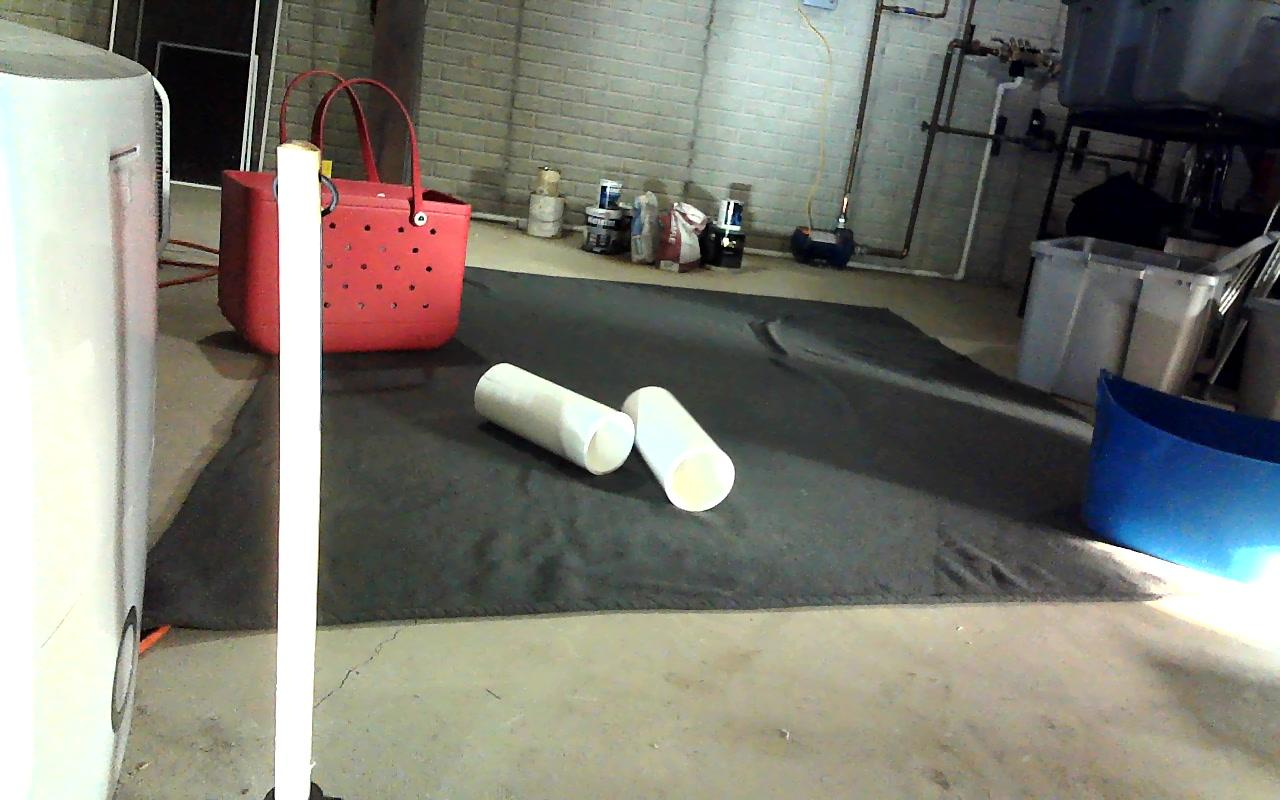coral: (474, 363, 634, 475), (624, 386, 734, 511)
